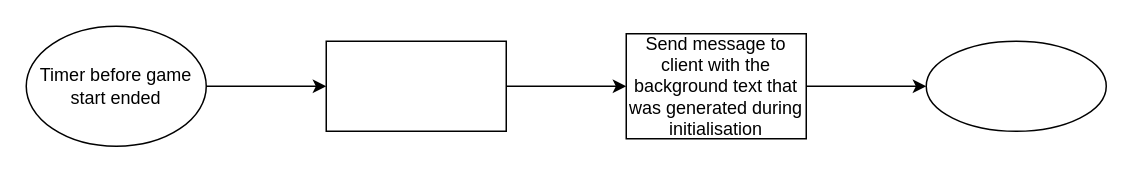
The diagram is 1133 pixels wide and 173 high, and some of its shapes have lost their labels. The box of each missing label's shape, as (x1, y1, x2, y2) in pixels:
End: (925, 40, 1106, 131)
Print to terminal that game has started: (325, 40, 506, 131)
